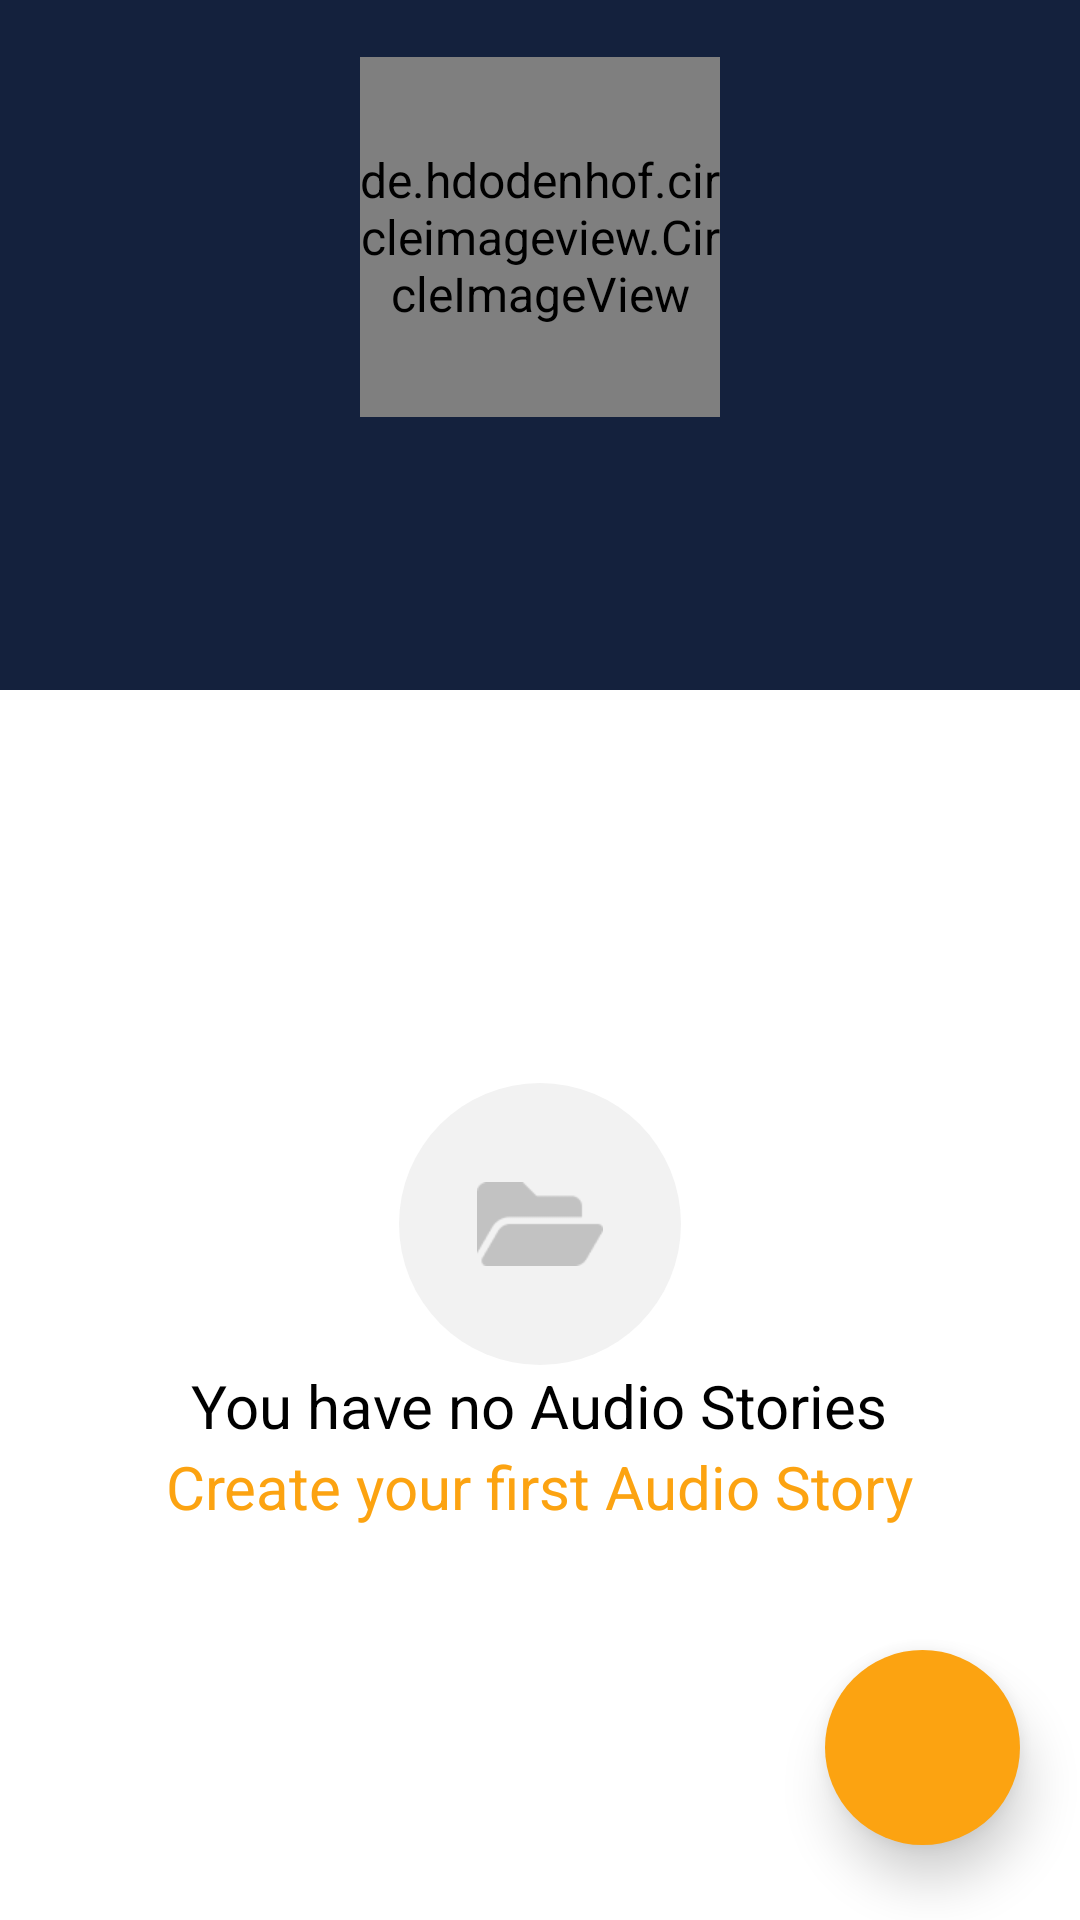

Point at icon controls on the screen. Image size 1080px×1920px, points as (x=x, y=y).
empty folder: (x=540, y=1224)
